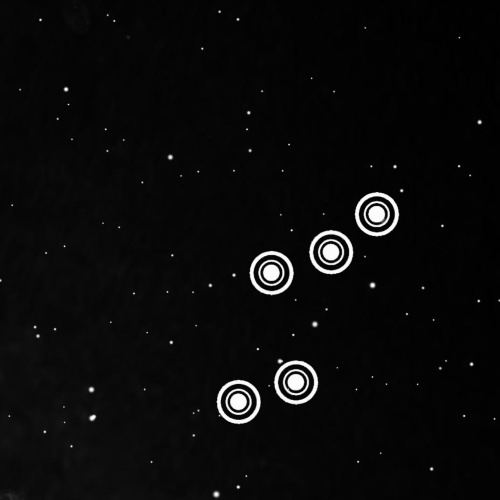lyra: (211, 174, 401, 436)
